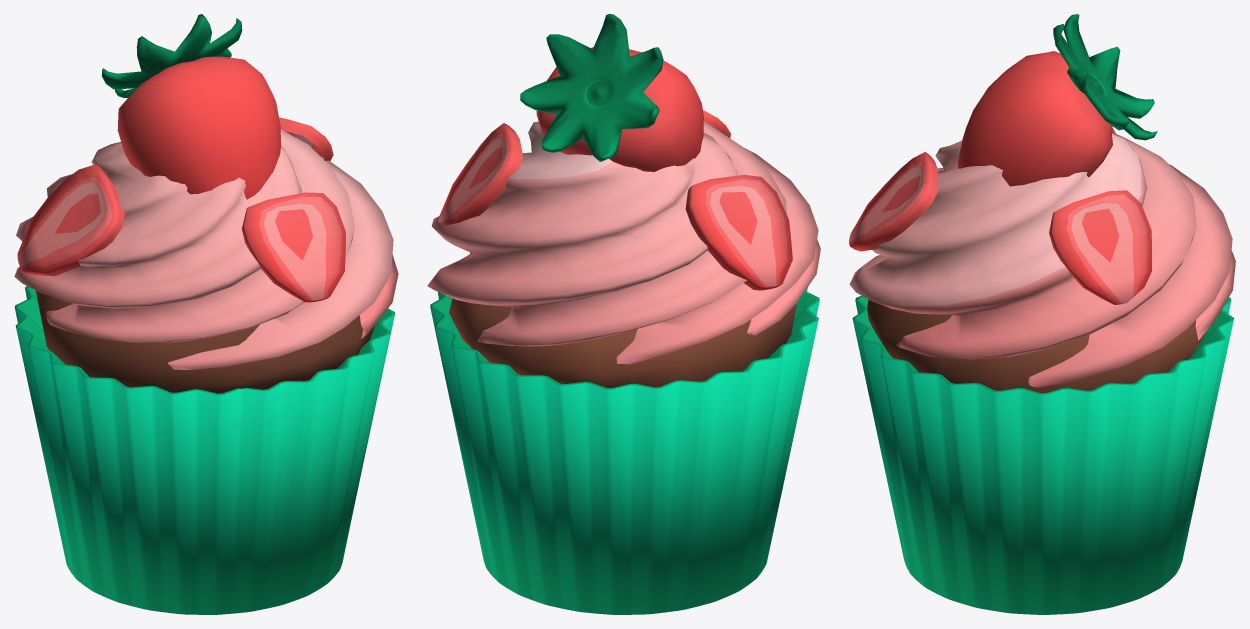
File: Cupcake_02.fbx
The picture shows the model from 3 angles, left to right: view 1: azimuth 30°, elevation 25°; view 2: azimuth 150°, elevation 25°; view 3: azimuth 270°, elevation 25°; orthographic projection. The views are drawn at different scales.
Parts seen in each view (by area): view 1: Cupcake_02; view 2: Cupcake_02; view 3: Cupcake_02.
Boxes of the visible parts, x1,y1,x2,y2 form: Cupcake_02: [14, 14, 398, 614]; Cupcake_02: [427, 14, 820, 614]; Cupcake_02: [849, 14, 1235, 614].
Size of the model in its own units: 292 by 440 by 289.
